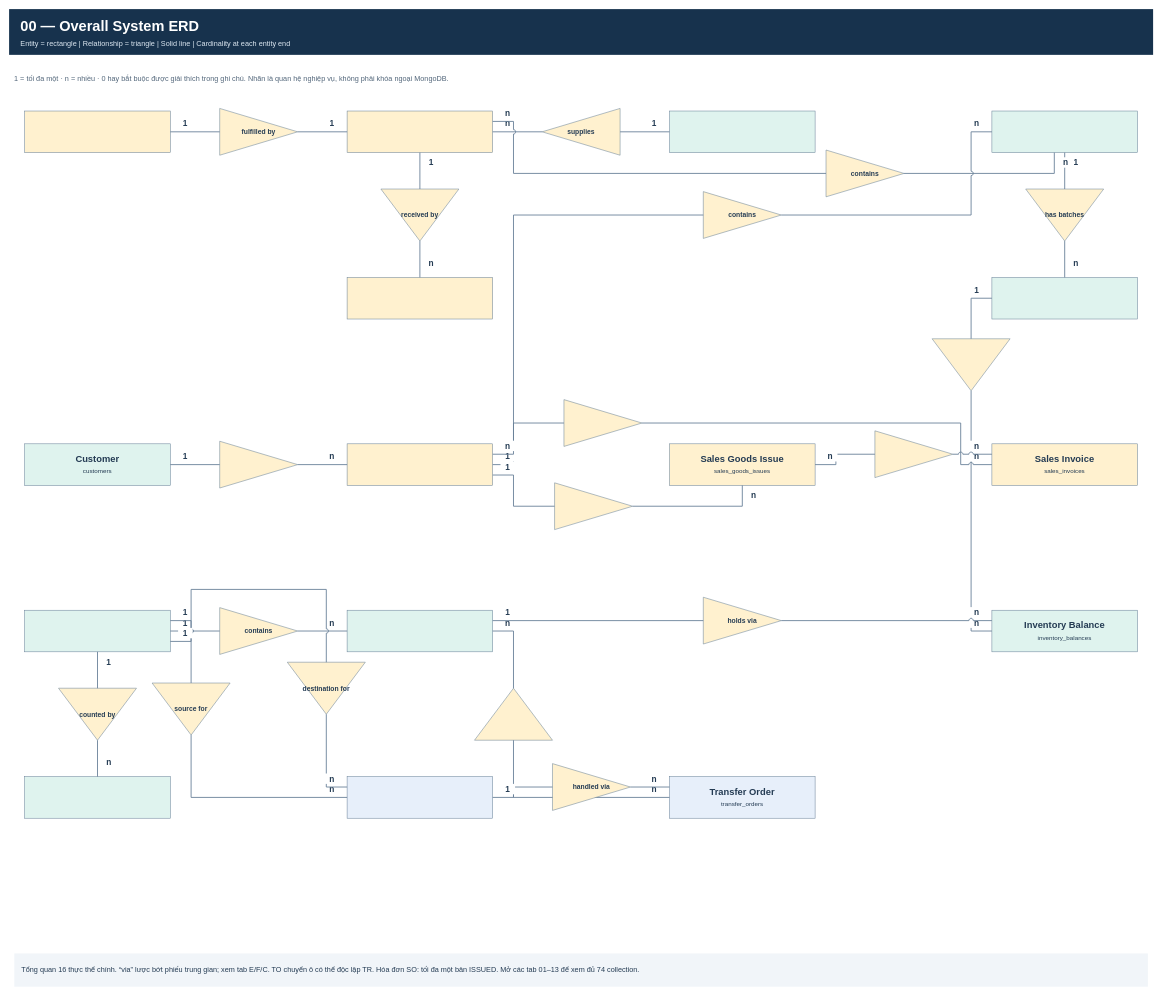
The diagram is 1162 pixels wide and 995 high, and some of its shapes have lost their labels. The centre of each missing label's shape, as x and y in pixels:
"fulfilled via" belongs at pixel 593 506.
"invoiced by" belongs at pixel 602 422.
"is counted in" belongs at pixel 971 364.
"listed in" belongs at pixel 913 454.
"moves between" belongs at pixel 513 714.
"places" belongs at pixel 258 464.
"Product Batch product_batches" belongs at pixel 1064 298.
"Product products" belongs at pixel 1064 131.
"Purchase Order purchase_orders" belongs at pixel 420 131.
"Purchase Receipt purchase_receipts" belongs at pixel 420 298.
"Replenishment Request replenishment_requests" belongs at pixel 97 131.
"Sales Order sales_orders" belongs at pixel 420 464.
"Stocktake stocktakes" belongs at pixel 97 797.
"Supplier suppliers" belongs at pixel 742 131.
"Warehouse Location warehouse_locations" belongs at pixel 420 631.
"Warehouse Transfer Request warehouse_transfer_requests" belongs at pixel 420 797.
"Warehouse warehouses" belongs at pixel 97 631.
